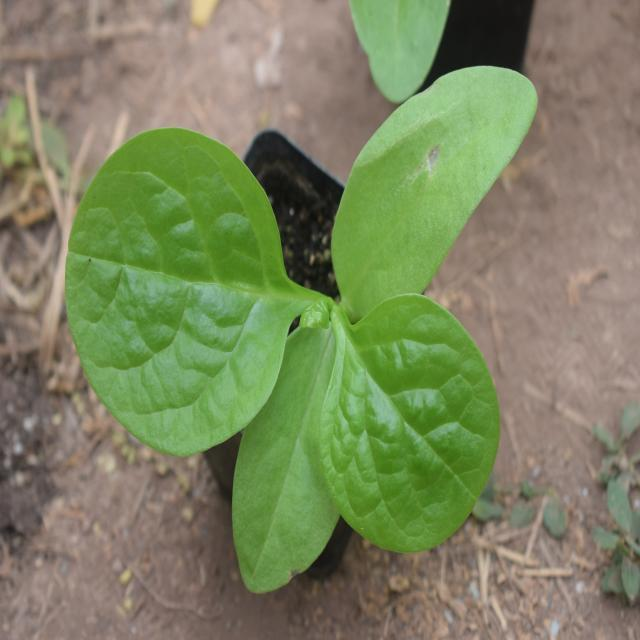Ceylon spinach: (78, 102, 518, 534)
